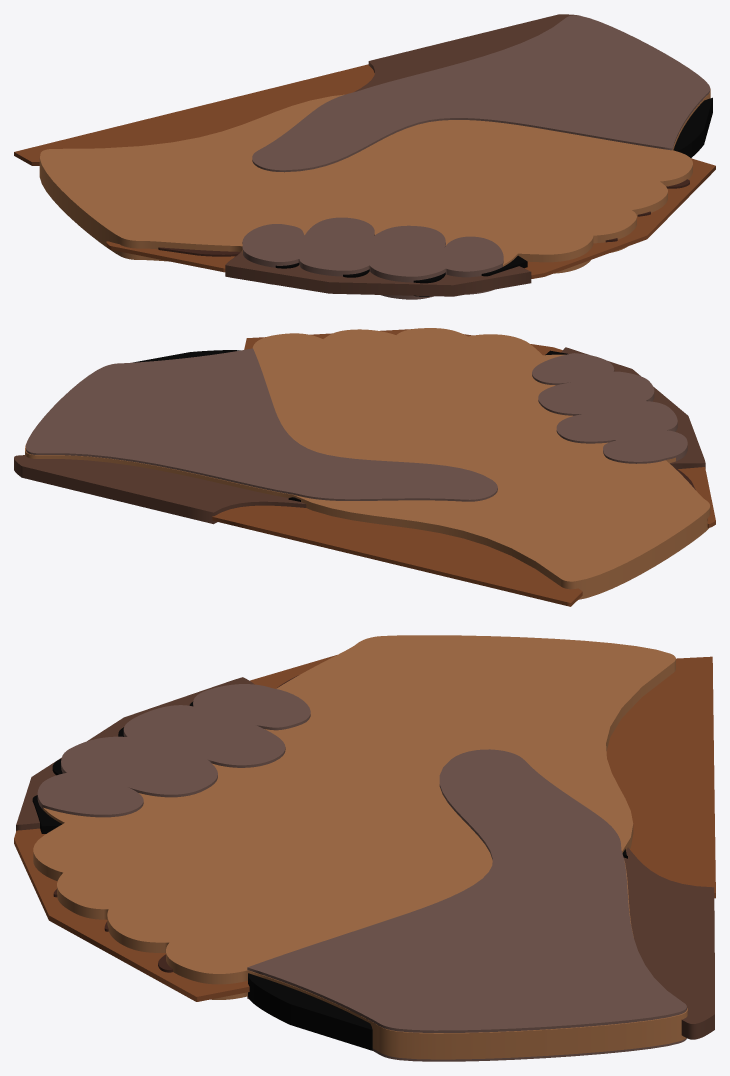
Rendered from emoji_u1faf1_1f3fe_200d_1faf2_1f3ff.glb.
3 views of the same model, one above another, from view 1: azimuth 30°, elevation 25°; view 2: azimuth 150°, elevation 25°; view 3: azimuth 270°, elevation 25° (orthographic). The views are drawn at different scales.
Parts seen in each view (by area): view 1: emoji_u1faf1_1f3fe_200d_1faf2_1f3ff; view 2: emoji_u1faf1_1f3fe_200d_1faf2_1f3ff; view 3: emoji_u1faf1_1f3fe_200d_1faf2_1f3ff.
Part boxes in pixels (x1,y1,x2,y2): emoji_u1faf1_1f3fe_200d_1faf2_1f3ff: (14, 14, 715, 299); emoji_u1faf1_1f3fe_200d_1faf2_1f3ff: (14, 328, 715, 606); emoji_u1faf1_1f3fe_200d_1faf2_1f3ff: (14, 635, 715, 1061).
Bounding box in the file's own units: 0.0332 × 0.0012 × 0.0244.
